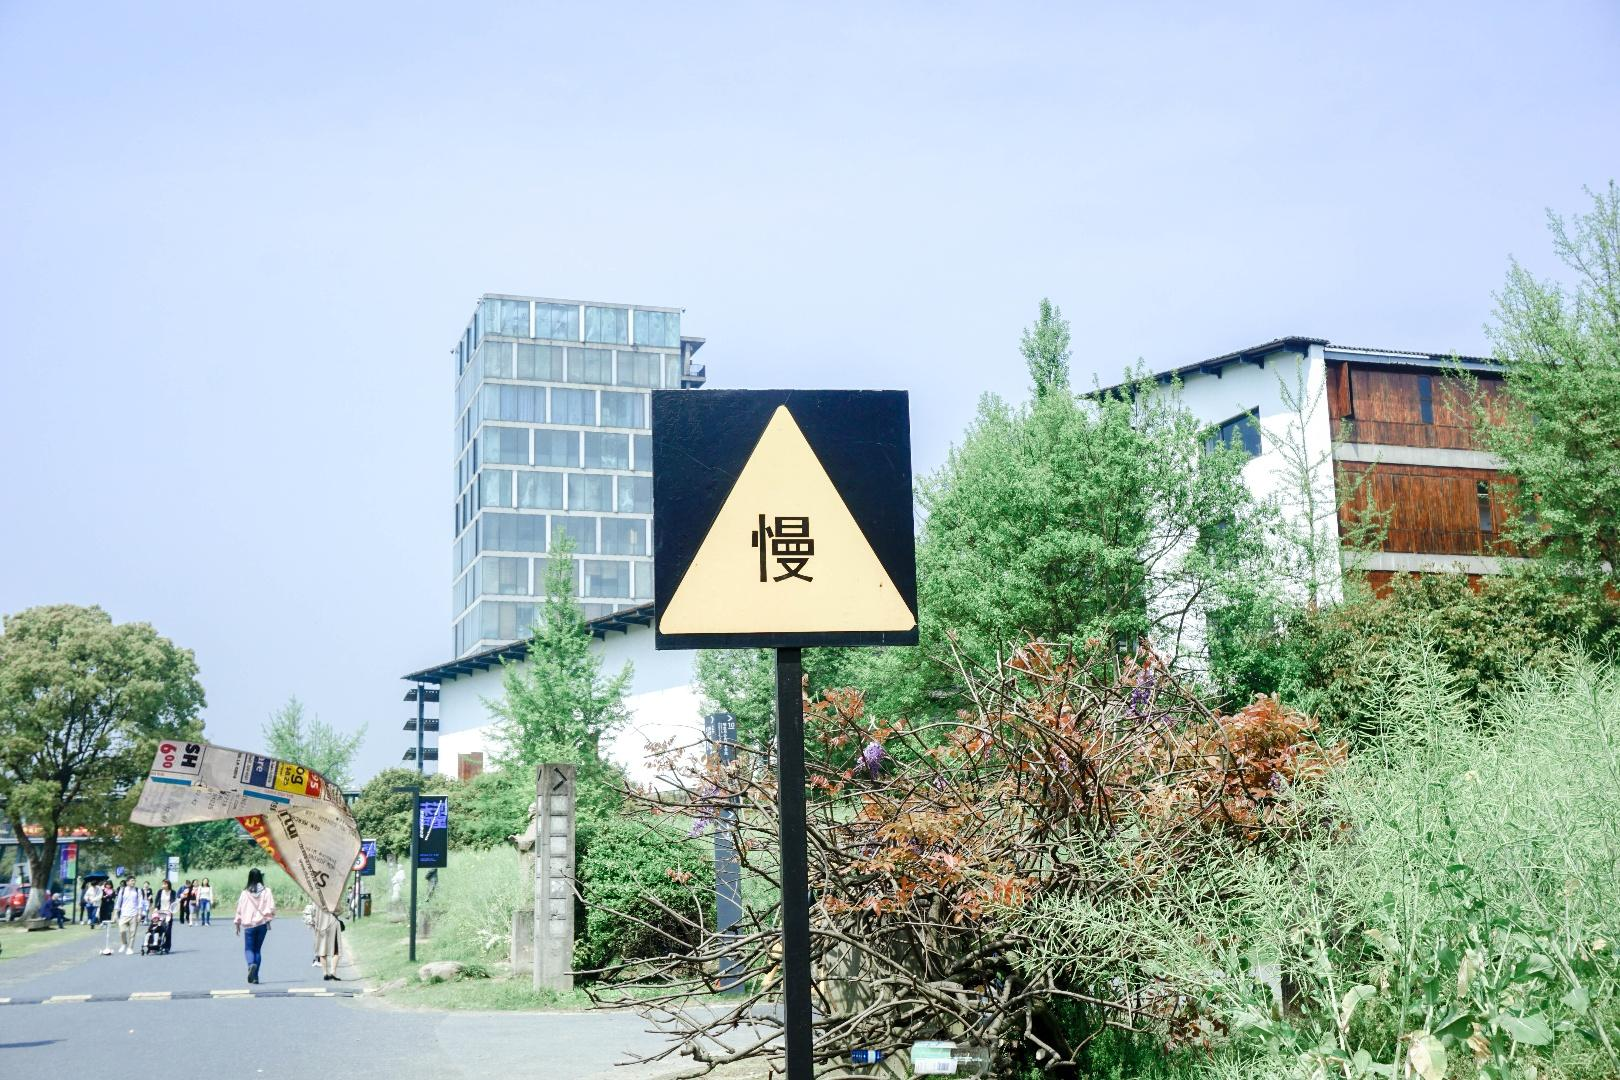glass: (846, 1033, 1005, 1080)
paper: (124, 732, 366, 918)
